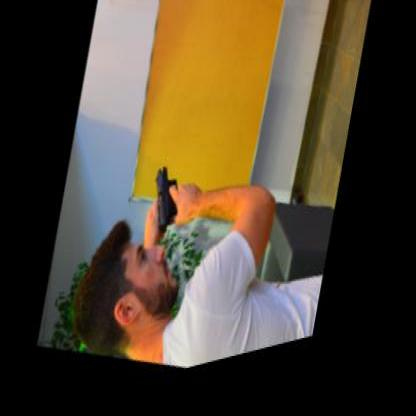pistol: (146, 165, 184, 245)
